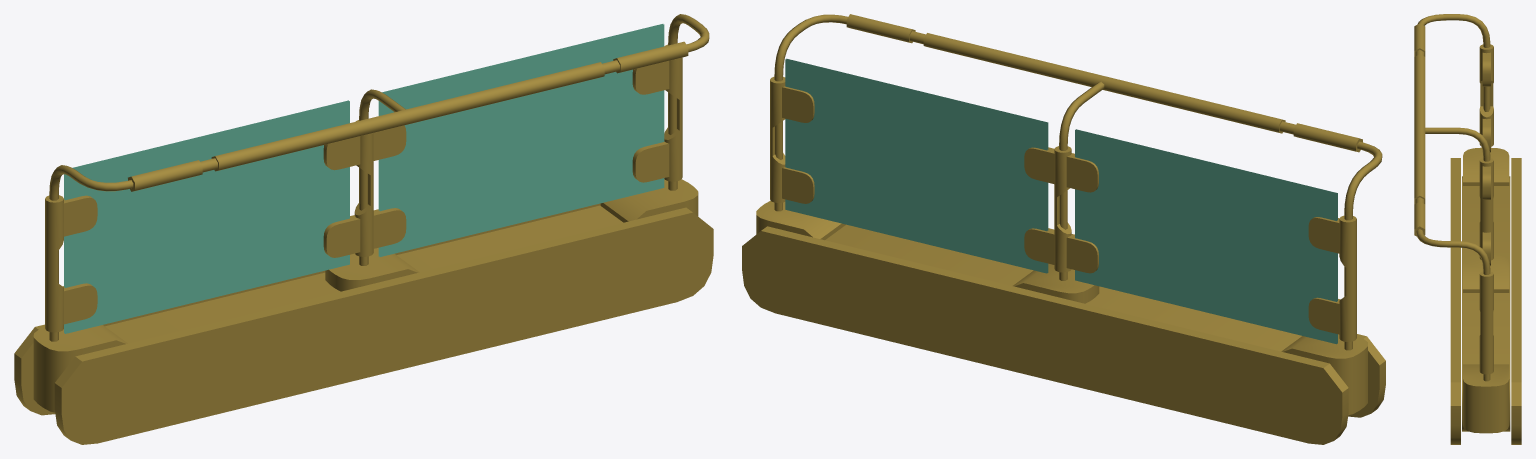
Rendered from Railing_A_Big.FBX.
3 renders of one model, left to right at view 1: azimuth 30°, elevation 25°; view 2: azimuth 150°, elevation 25°; view 3: azimuth 270°, elevation 25°, orthographic. The views are drawn at different scales.
Visible parts, largest first — view 1: Railing_A_Big, Railing_A_Big_Glass; view 2: Railing_A_Big, Railing_A_Big_Glass; view 3: Railing_A_Big.
Boxes of the visible parts, x1,y1,x2,y2 form: Railing_A_Big: [14, 14, 713, 444]; Railing_A_Big_Glass: [64, 24, 664, 333]; Railing_A_Big: [742, 14, 1385, 444]; Railing_A_Big_Glass: [785, 58, 1337, 344]; Railing_A_Big: [1414, 14, 1521, 444].
Size of the model in its own units: 399 by 163 by 75.55.
